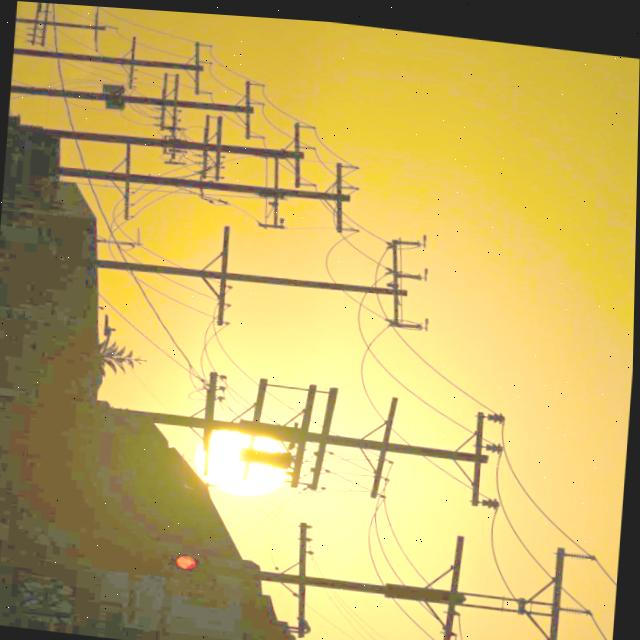poles: (11, 70, 359, 228), (125, 366, 506, 499), (259, 518, 567, 640), (123, 222, 428, 324), (13, 35, 213, 93)
wires: (464, 428, 619, 640), (357, 325, 460, 399), (123, 309, 238, 371), (99, 182, 184, 264), (352, 494, 434, 578), (374, 587, 494, 640), (325, 214, 388, 280), (125, 276, 205, 317)
